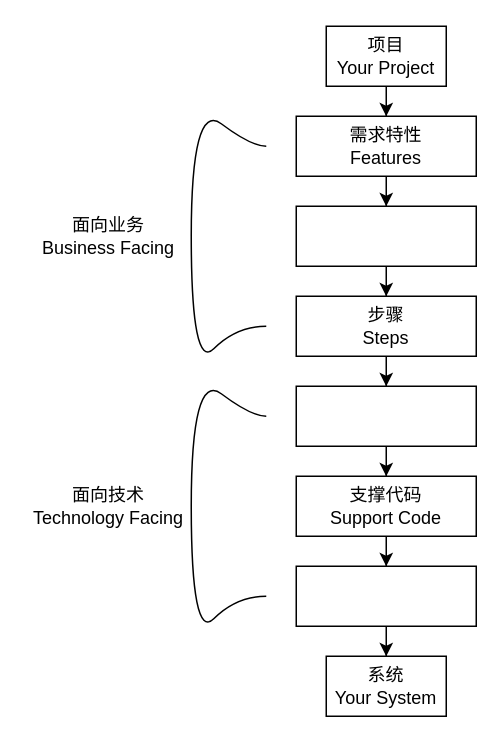
Some shapes in this 503 by 743 pixel diagram are drawn without their labels. Here are the shapes that lost their labels. From the top down, the box of each, then its label:
(295, 205, 476, 266): 场景 Scenarios
(295, 385, 476, 446): 步骤定义 Step Definitions
(295, 565, 476, 626): 自动化库 Automation Library
